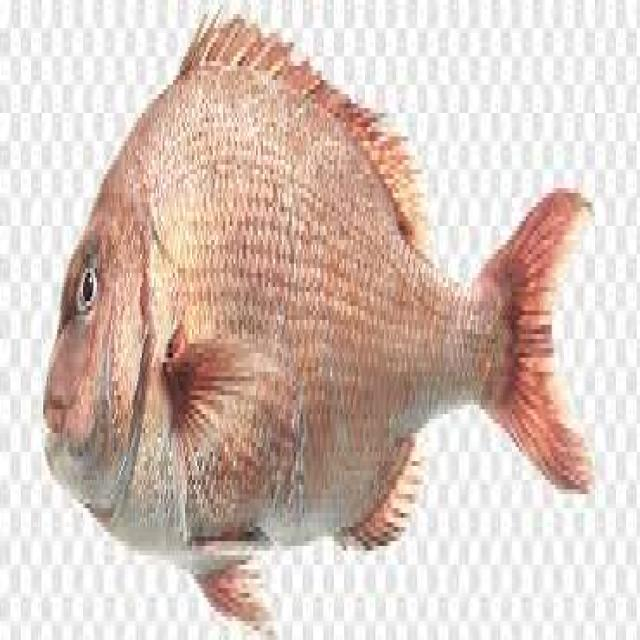northern-red-snapper: (22, 2, 604, 635)
